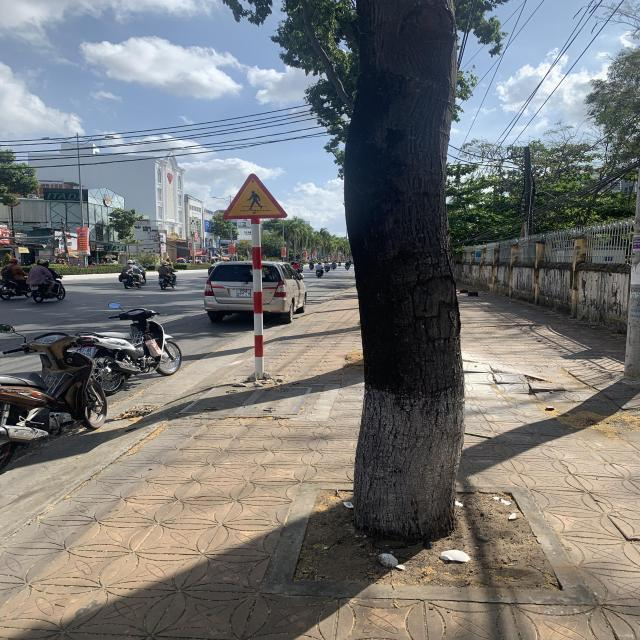Duong_Nguoi_Di_Bo_Sang_Ngang: (222, 173, 287, 219)
